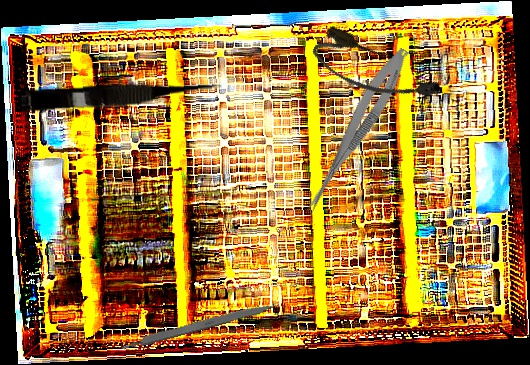Cannula: (306, 22, 447, 120)
Micro Scissor: (298, 42, 415, 223), (17, 75, 222, 117)
Scalpel Handle: (118, 299, 277, 352)
